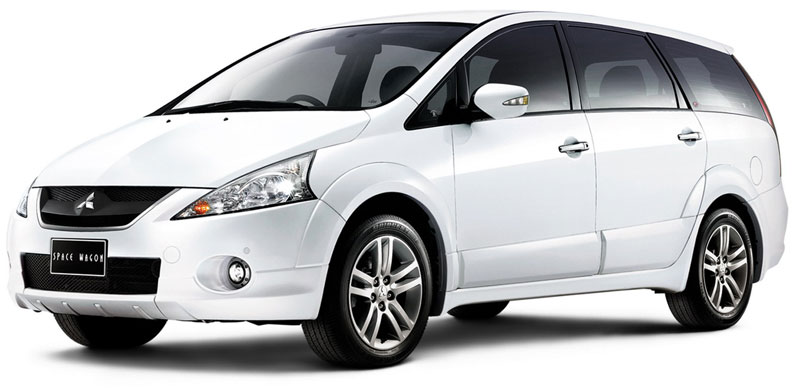van: (10, 6, 789, 370)
